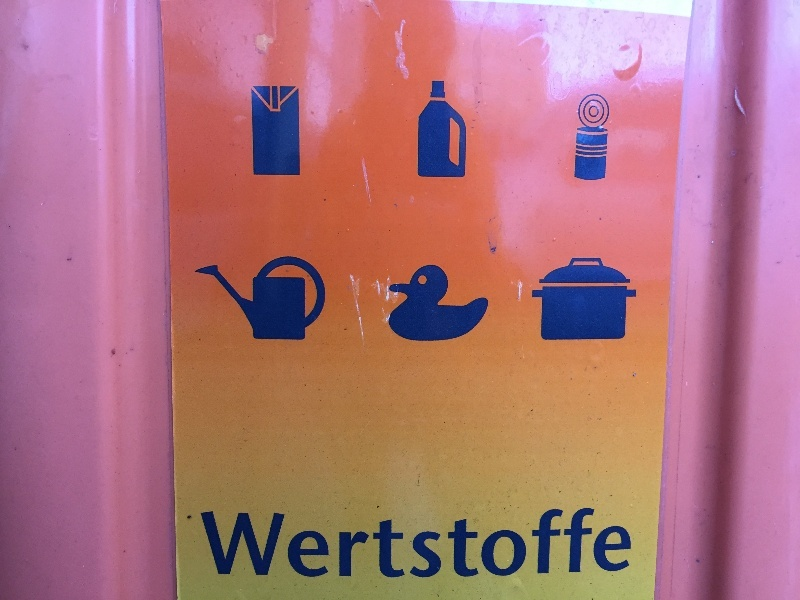text: (209, 507, 224, 579), (225, 507, 240, 579), (241, 507, 256, 579), (257, 507, 272, 579), (273, 507, 288, 579), (289, 507, 304, 579), (305, 507, 320, 579), (321, 507, 336, 579), (337, 507, 352, 579), (353, 507, 368, 579), (369, 507, 384, 579), (385, 507, 400, 579), (401, 507, 416, 579), (417, 507, 432, 579), (433, 507, 448, 579), (449, 507, 464, 579), (465, 507, 480, 579), (481, 507, 496, 579), (497, 507, 512, 579), (513, 507, 528, 579), (529, 507, 544, 579), (545, 507, 560, 579), (561, 507, 576, 579), (577, 507, 592, 579), (593, 507, 608, 579), (609, 507, 624, 579), (625, 507, 634, 579), (200, 507, 208, 579)
